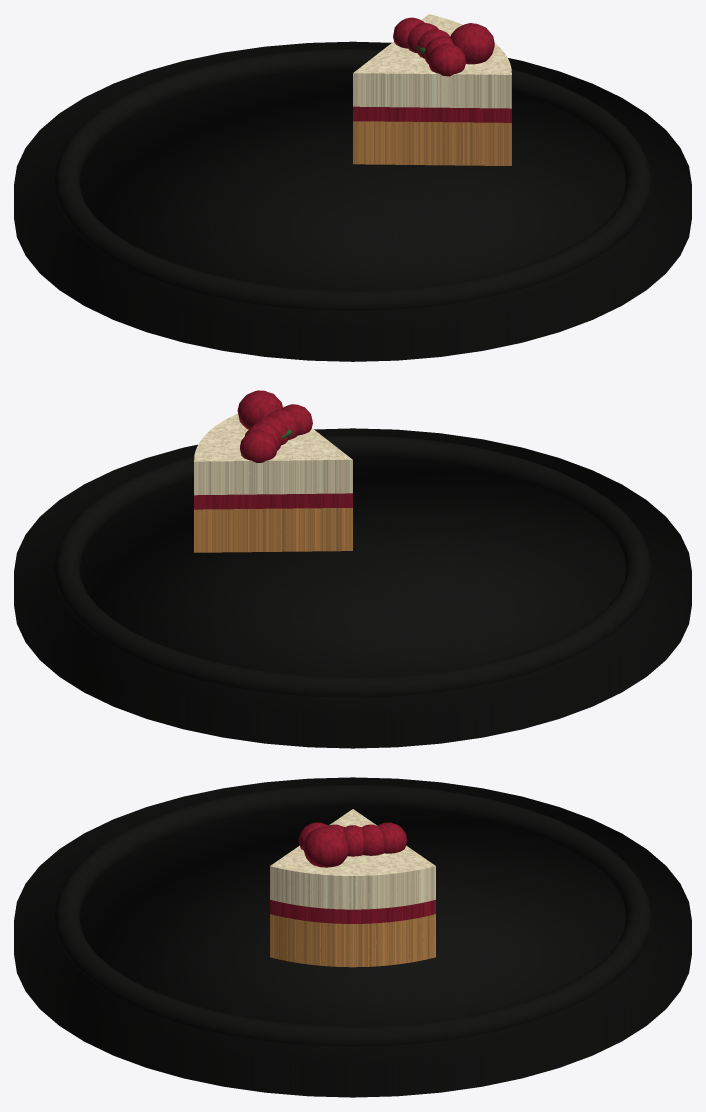
Rendered from tarta.glb.
3 views of the same model, one above another, from view 1: azimuth 30°, elevation 25°; view 2: azimuth 150°, elevation 25°; view 3: azimuth 270°, elevation 25° (orthographic).
Parts seen in each view (by area): view 1: darkPlate, cream, cake, berry; view 2: darkPlate, cream, cake, berry; view 3: darkPlate, cream, cake, berry.
Boxes of the visible parts, x1,y1,x2,y2 form: darkPlate: (14, 41, 691, 361); cream: (353, 14, 511, 108); cake: (353, 121, 511, 165); berry: (353, 17, 511, 122); darkPlate: (14, 428, 691, 748); cream: (194, 405, 352, 495); cake: (194, 508, 352, 552); berry: (194, 390, 352, 509); darkPlate: (14, 777, 691, 1097); cream: (270, 809, 435, 909); cake: (270, 914, 435, 967); berry: (270, 822, 435, 923).
Size of the model in its own units: 0.64 by 0.1847 by 0.64.
Materials: 5 (5 with a texture image).
